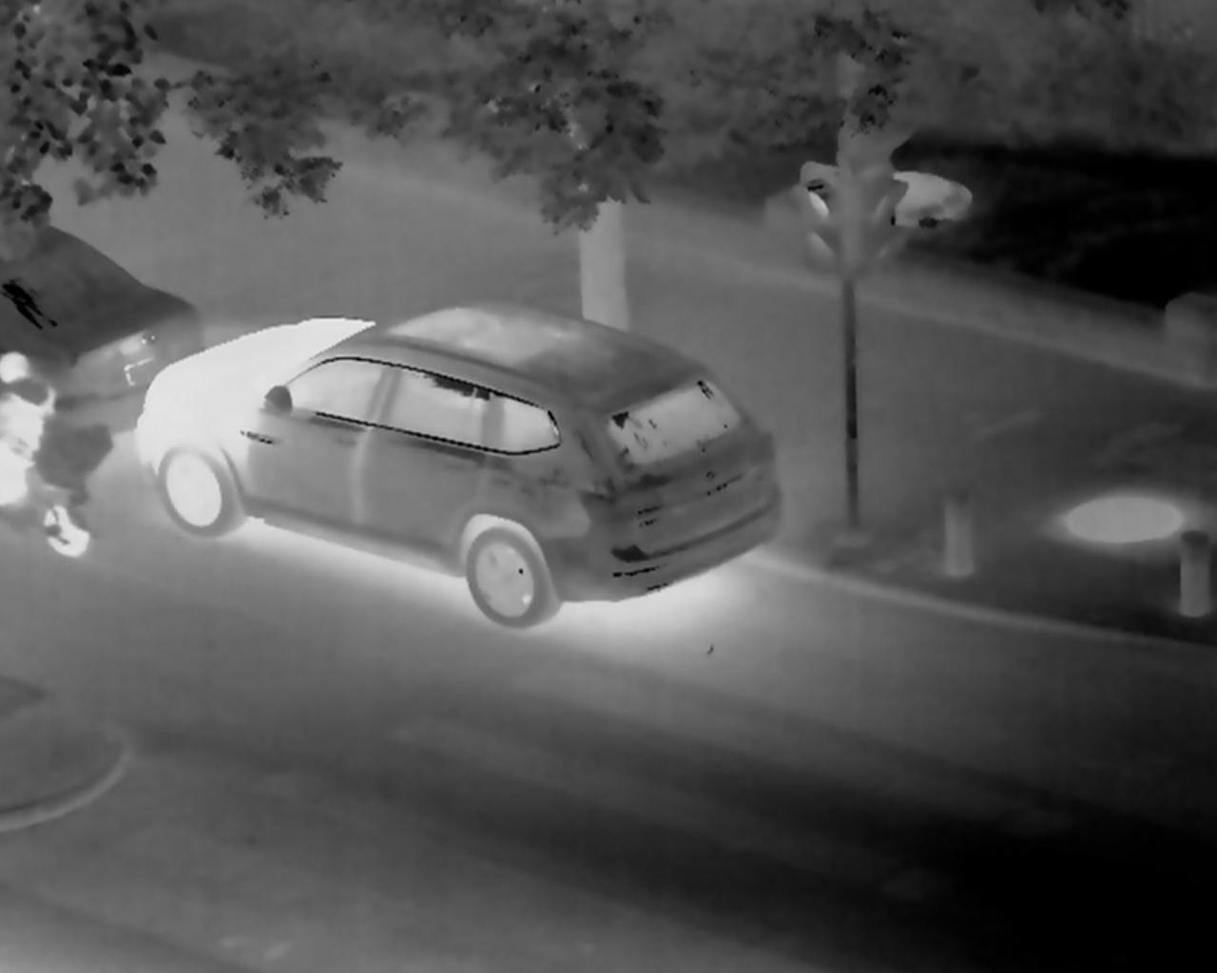person: (2, 353, 58, 513)
